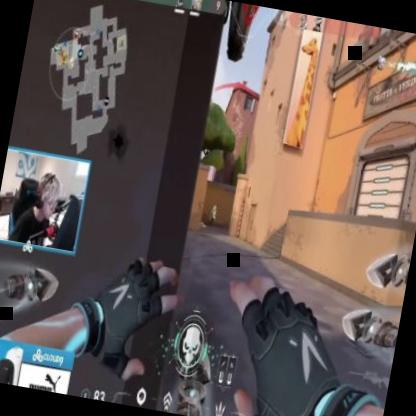enemy: (208, 204, 217, 224)
enemy_head: (213, 204, 216, 210)
